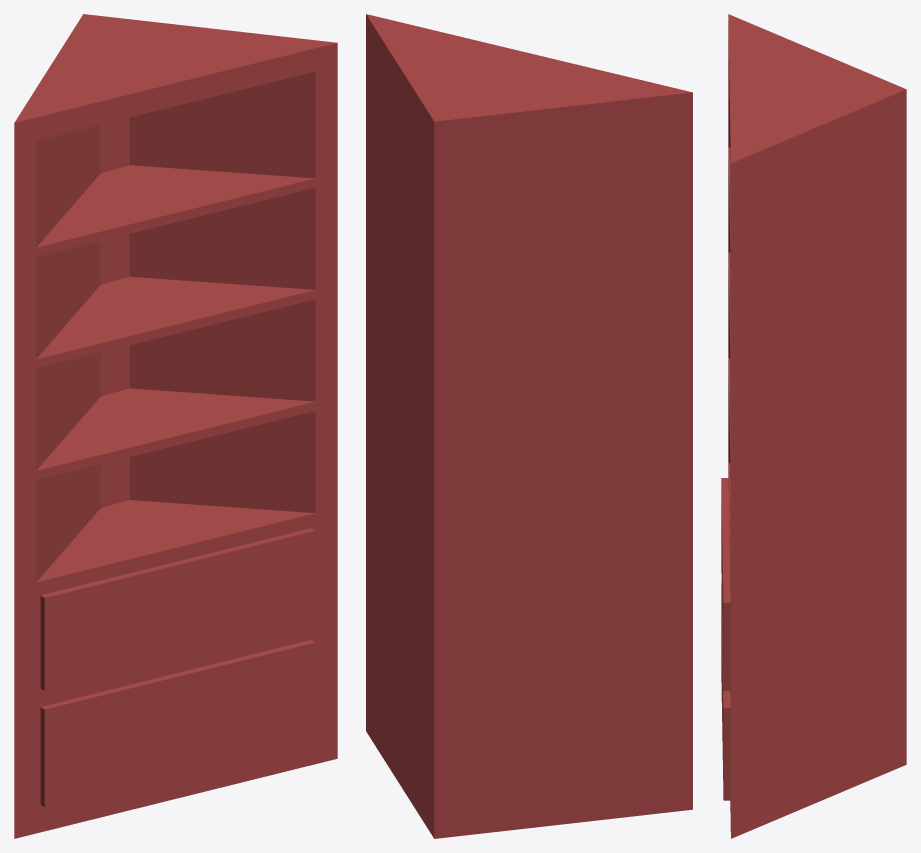
The model's file is Cupboard_3.FBX.
3 renders of one model, left to right at view 1: azimuth 30°, elevation 25°; view 2: azimuth 150°, elevation 25°; view 3: azimuth 270°, elevation 25°, orthographic. The views are drawn at different scales.
Parts seen in each view (by area): view 1: Cupboard_3; view 2: Cupboard_3; view 3: Cupboard_3.
Boxes of the visible parts, x1,y1,x2,y2 form: Cupboard_3: [14, 14, 337, 838]; Cupboard_3: [366, 14, 692, 838]; Cupboard_3: [721, 14, 906, 838].
Size of the model in its own units: 1.32 by 2.78 by 0.6919.
